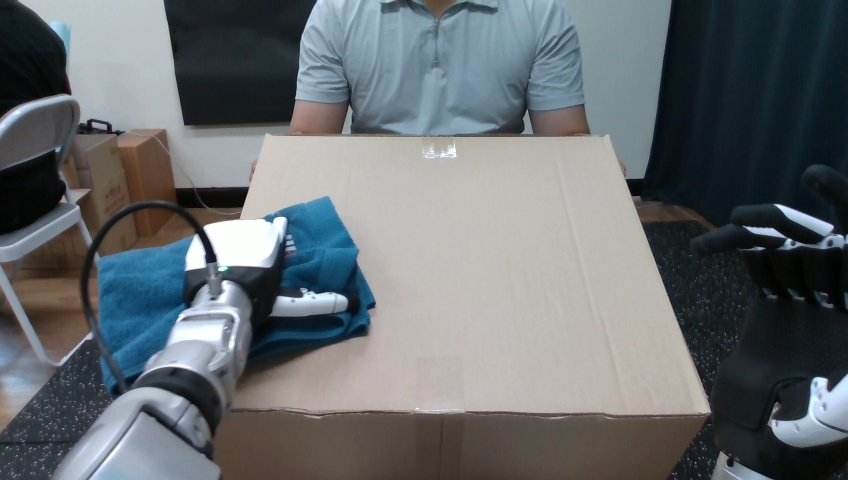left robot hand: (53, 217, 349, 479)
